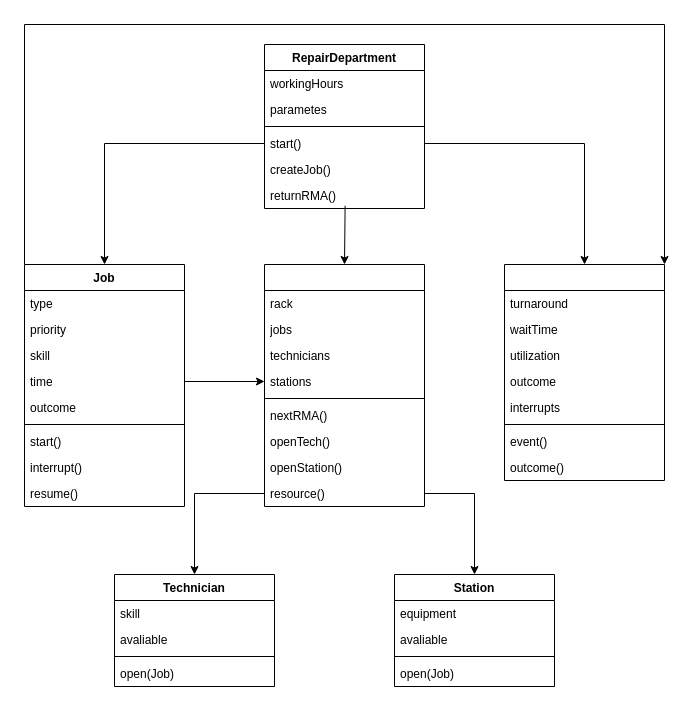
Image size: 690x707. Some labels were removed from this diagram. Each missing label, with the box of its shape:
Repair: (264, 264, 424, 506)
Results: (504, 264, 664, 480)
